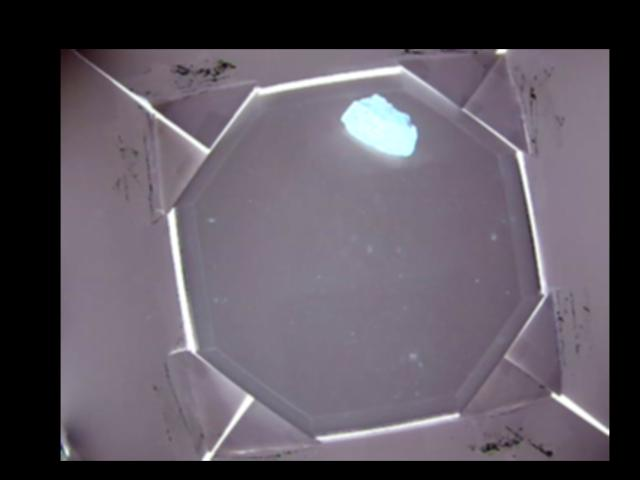Brisk: (345, 91, 417, 155)
